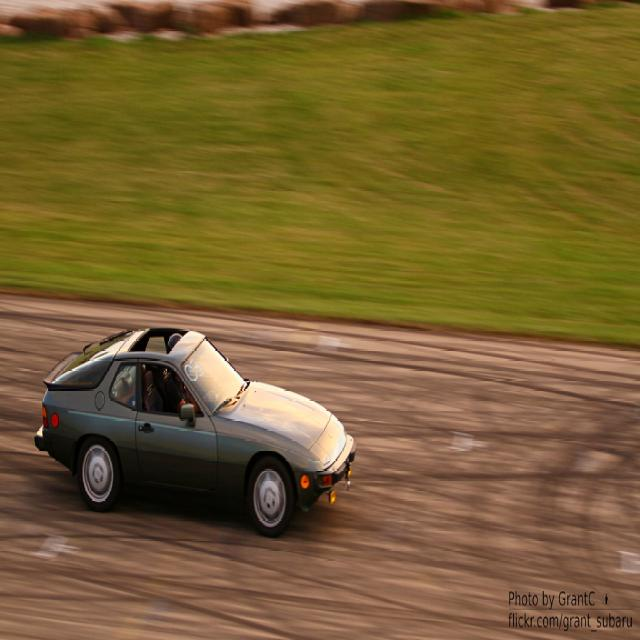car: (31, 322, 357, 538)
